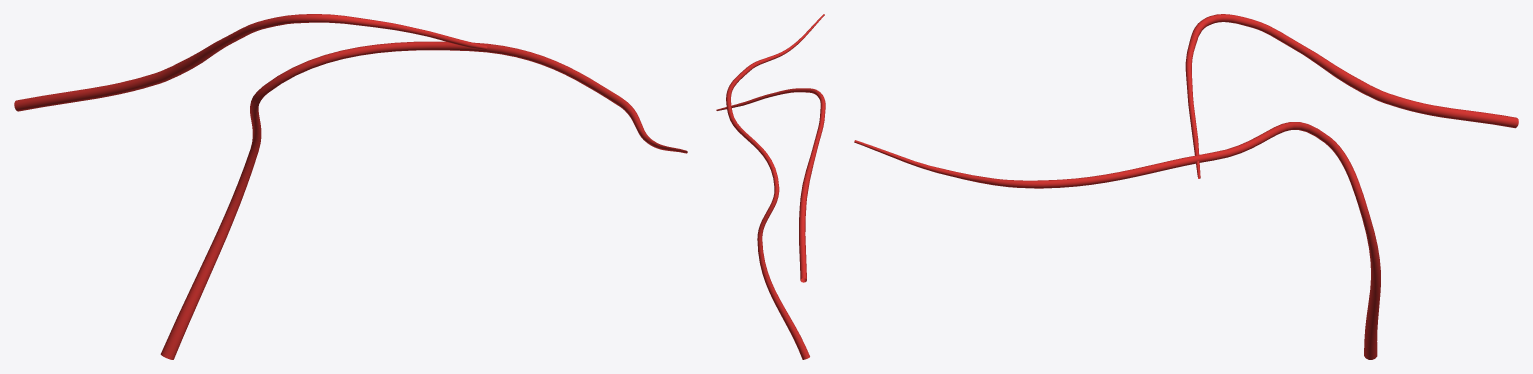
File: circulatorio-ascending-pharyngeal-artery-r.glb
3 renders of one model, left to right at view 1: azimuth 30°, elevation 25°; view 2: azimuth 150°, elevation 25°; view 3: azimuth 270°, elevation 25°, orthographic. The views are drawn at different scales.
Visible parts, largest first — view 1: Ascending pharyngeal artery.r; view 2: Ascending pharyngeal artery.r; view 3: Ascending pharyngeal artery.r.
Boxes of the visible parts, x1,y1,x2,y2 form: Ascending pharyngeal artery.r: (14, 14, 687, 359); Ascending pharyngeal artery.r: (716, 14, 825, 359); Ascending pharyngeal artery.r: (854, 14, 1518, 359).
Size of the model in its own units: 0.0283 by 0.0298 by 0.0486.
